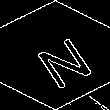N_NW: (20, 23, 90, 87)
